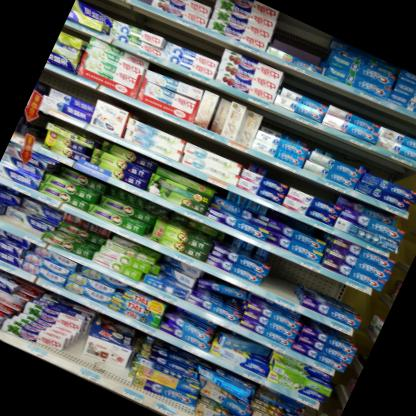empty_space: (65, 344, 124, 383), (261, 255, 306, 301)
